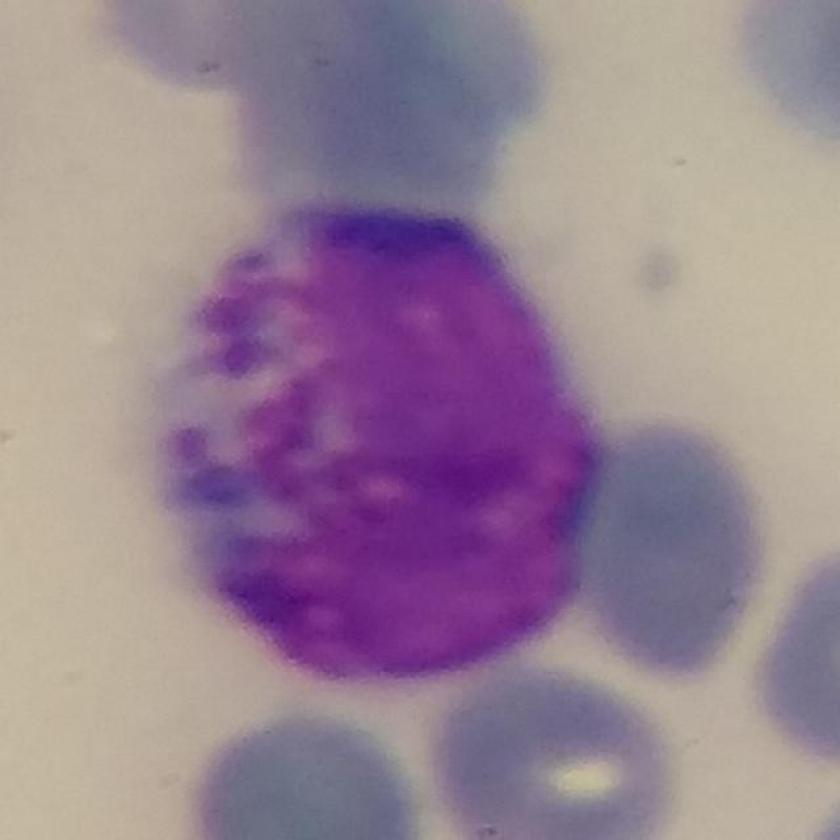basophil: (143, 198, 628, 686)
